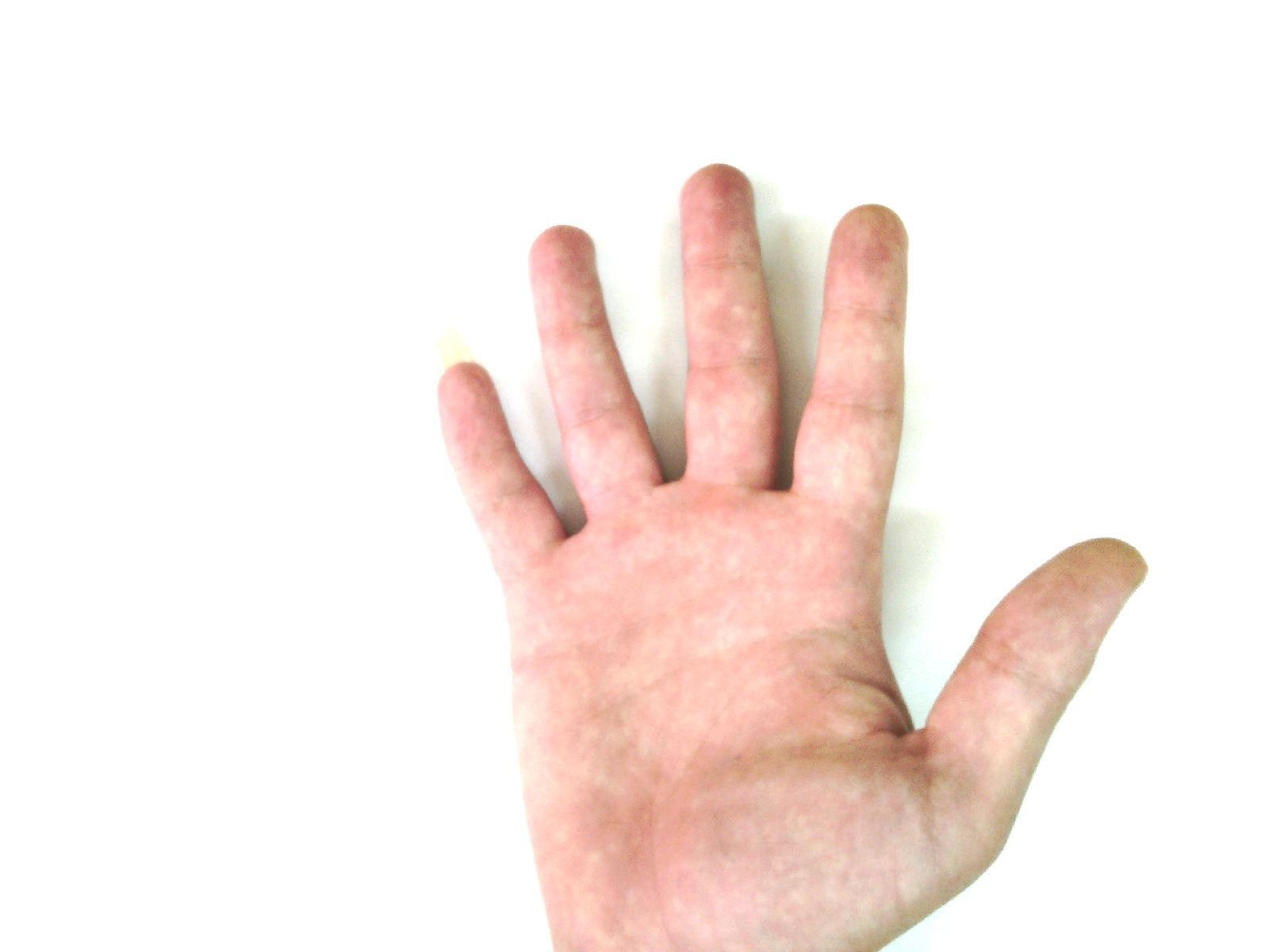open_palm: (433, 162, 1149, 951)
